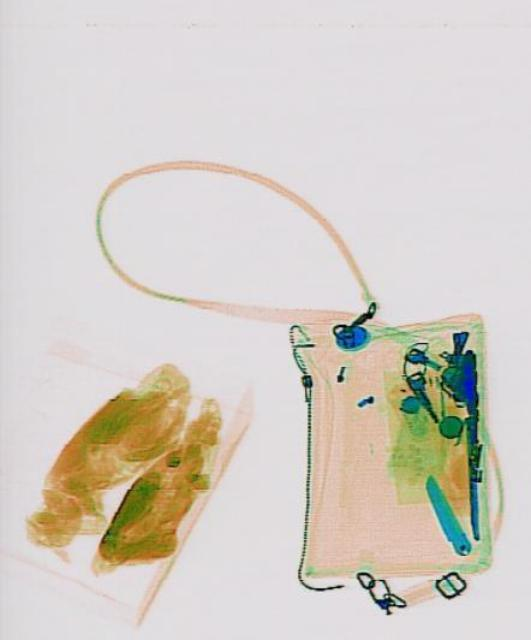Knife: (415, 469, 474, 559)
